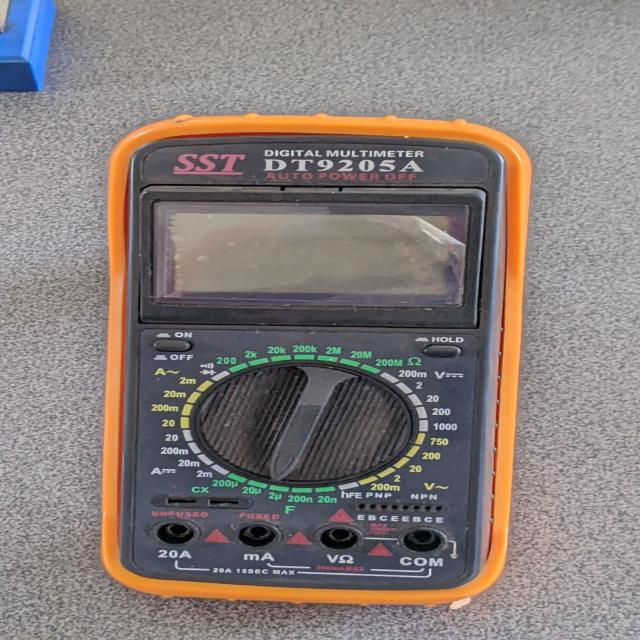Digital Multimeter: (71, 106, 547, 616)
